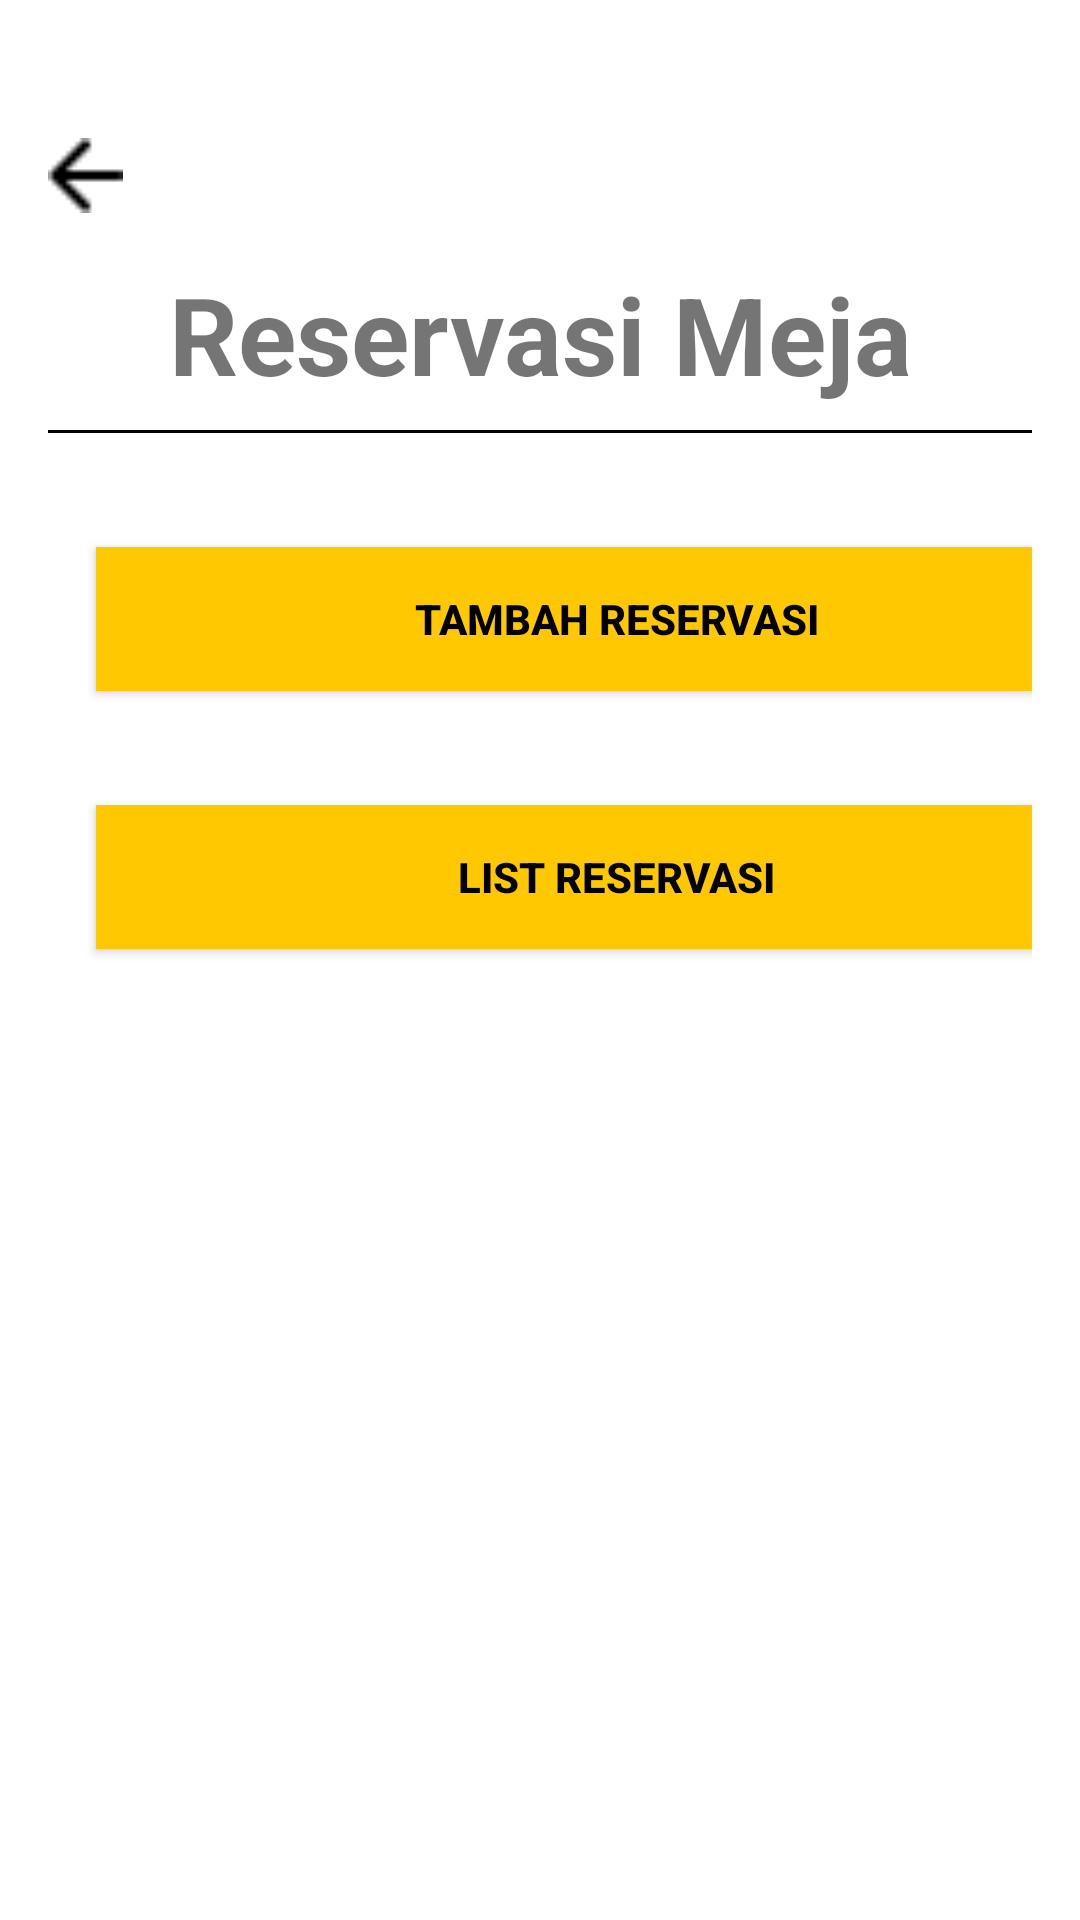

Icons on this 1080 × 1920 Android screen, each with the point to tap as point (x, y):
back: point (85, 175)
